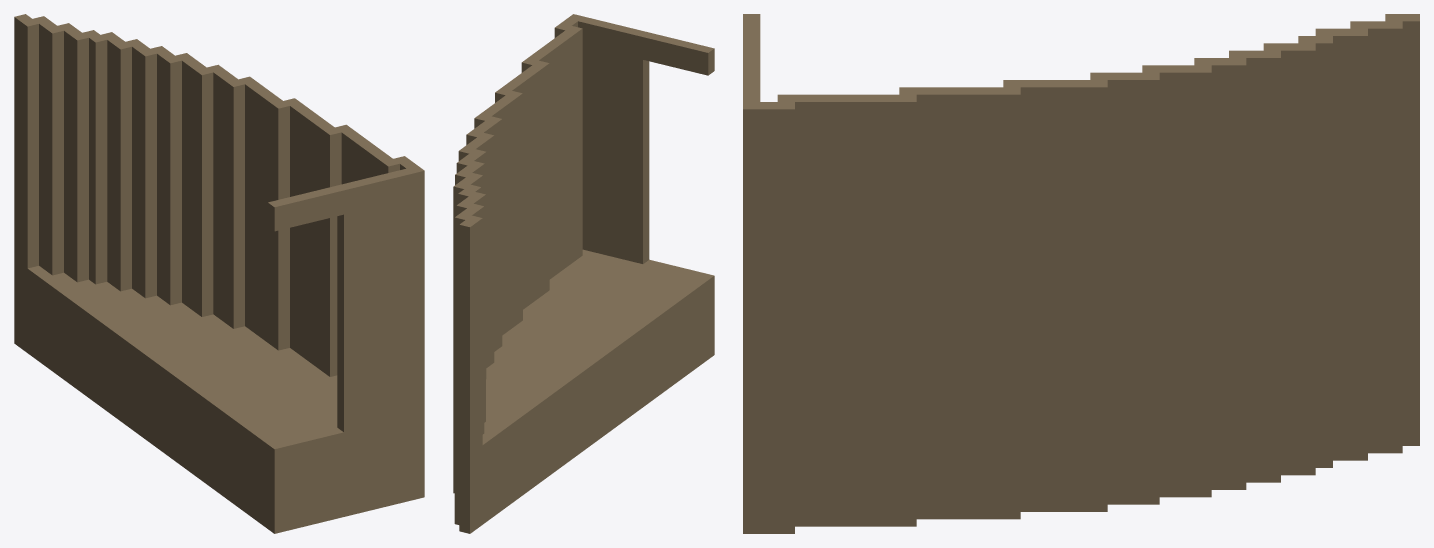
File: CornerCorridor-0.obj
The picture shows the model from 3 angles, left to right: view 1: azimuth 30°, elevation 25°; view 2: azimuth 150°, elevation 25°; view 3: azimuth 270°, elevation 25°; orthographic projection. The views are drawn at different scales.
Size of the model in its own units: 1.3 by 2.7 by 3.9.
